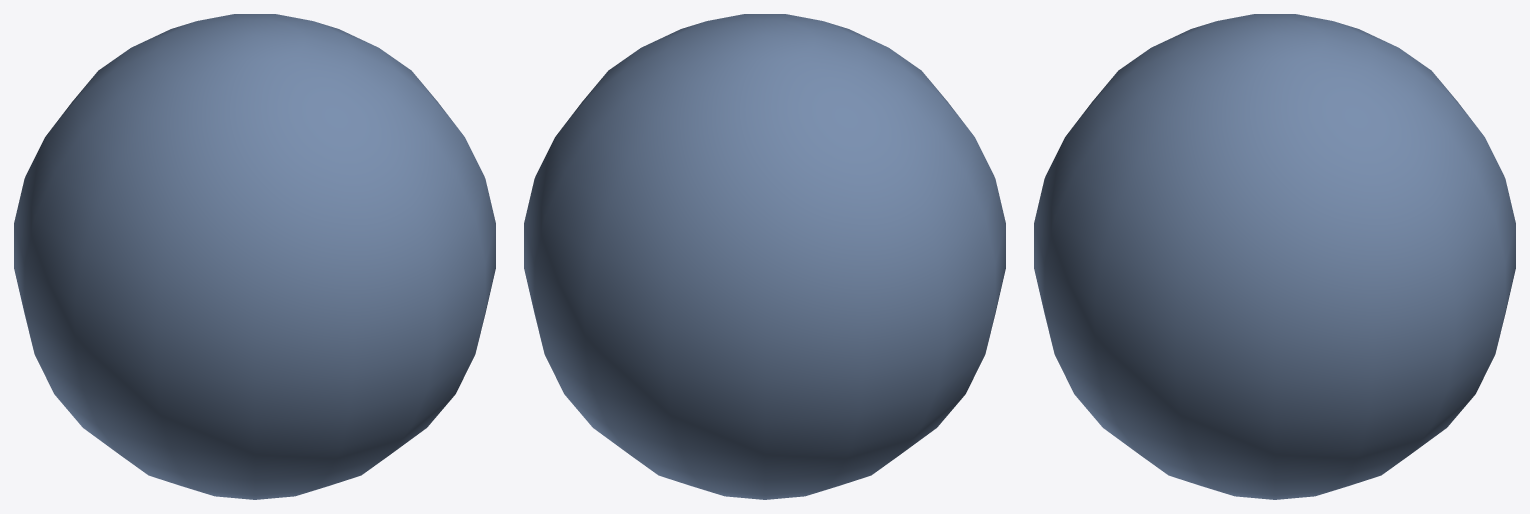
The model's file is Planet.fbx.
The picture shows the model from 3 angles, left to right: view 1: azimuth 30°, elevation 25°; view 2: azimuth 150°, elevation 25°; view 3: azimuth 270°, elevation 25°; orthographic projection.
Parts seen in each view (by area): view 1: Planet_GEO; view 2: Planet_GEO; view 3: Planet_GEO.
Boxes of the visible parts, x1=… form: Planet_GEO: x1=14, y1=14, x2=495, y2=499; Planet_GEO: x1=524, y1=14, x2=1005, y2=499; Planet_GEO: x1=1034, y1=14, x2=1515, y2=499.
Size of the model in its own units: 1224 by 1244 by 1231.
